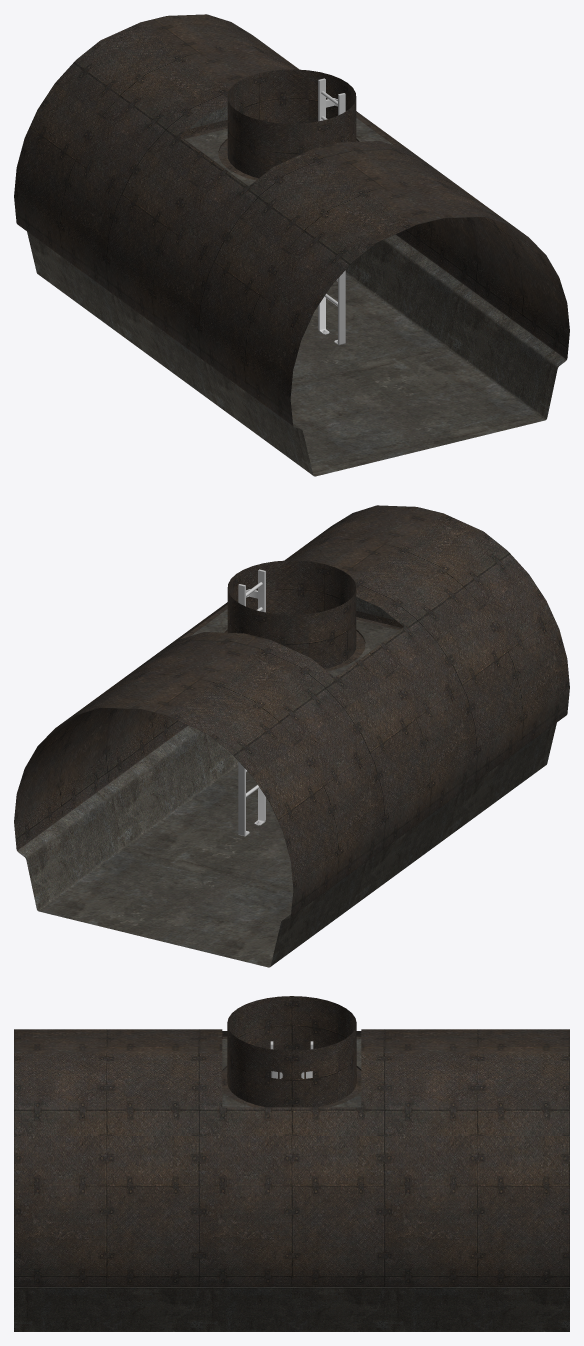
File: tunnel_manhole_shaft_beginning_1.fbx
3 renders of one model, top to bottom at view 1: azimuth 30°, elevation 25°; view 2: azimuth 150°, elevation 25°; view 3: azimuth 270°, elevation 25°, orthographic.
Parts seen in each view (by area): view 1: tunnel_manhole_shaft_beginning_1, shaft_beginning_ladder; view 2: tunnel_manhole_shaft_beginning_1, shaft_beginning_ladder; view 3: tunnel_manhole_shaft_beginning_1.
Boxes of the visible parts, x1,y1,x2,y2 form: tunnel_manhole_shaft_beginning_1: (14, 14, 569, 476); shaft_beginning_ladder: (318, 78, 345, 345); tunnel_manhole_shaft_beginning_1: (14, 505, 569, 967); shaft_beginning_ladder: (238, 569, 265, 836); tunnel_manhole_shaft_beginning_1: (14, 996, 569, 1331).
Bounding box in the file's own units: 3.5 × 6 × 3.
